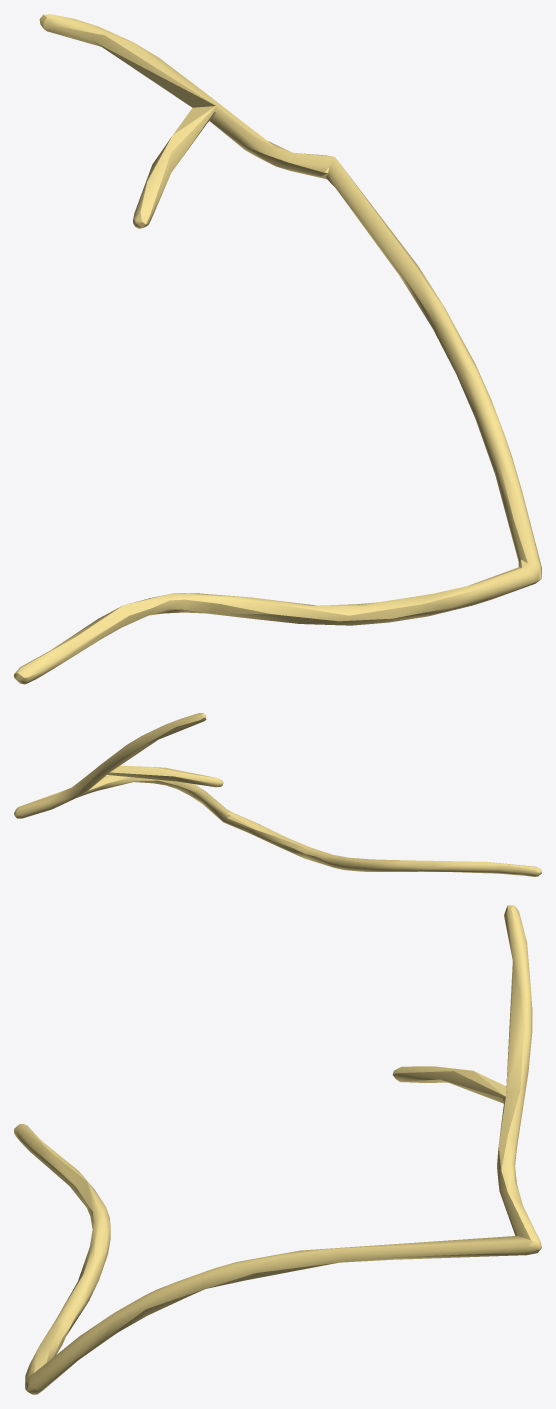
File: fma8922_fj4159.glb
3 views of the same model, one above another, from view 1: azimuth 30°, elevation 25°; view 2: azimuth 150°, elevation 25°; view 3: azimuth 270°, elevation 25° (orthographic). The views are drawn at different scales.
Visible parts, largest first — view 1: FMA8922_FJ4159; view 2: FMA8922_FJ4159; view 3: FMA8922_FJ4159.
Boxes of the visible parts, x1,y1,x2,y2 form: FMA8922_FJ4159: (14,14,541,684); FMA8922_FJ4159: (14,713,541,876); FMA8922_FJ4159: (14,905,541,1394).
Size of the model in its own units: 0.0186 by 0.0131 by 0.0156.
